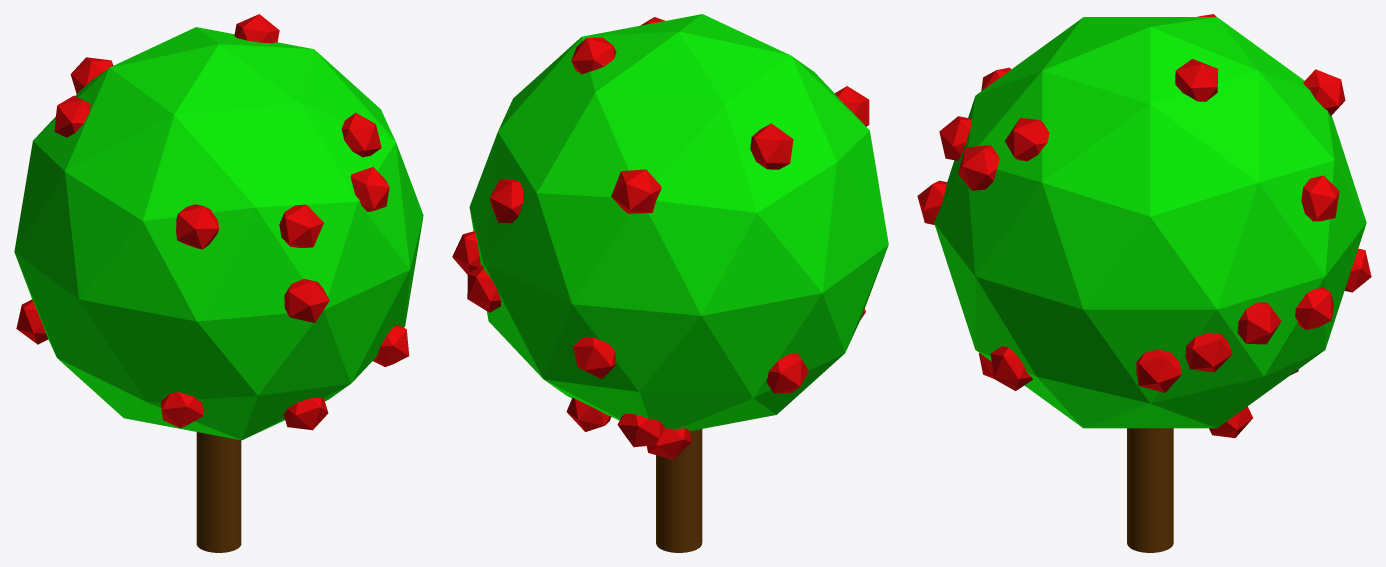
File: raspberry.glb
3 views of the same model, side by side, from view 1: azimuth 30°, elevation 25°; view 2: azimuth 150°, elevation 25°; view 3: azimuth 270°, elevation 25° (orthographic). The views are drawn at different scales.
Parts seen in each view (by area): view 1: Icosphere, Cylinder; view 2: Icosphere, Cylinder; view 3: Icosphere, Cylinder.
Part boxes in pixels (bbox=[...]): Icosphere: bbox=[14, 14, 423, 440]; Cylinder: bbox=[196, 432, 241, 552]; Icosphere: bbox=[452, 14, 888, 459]; Cylinder: bbox=[656, 429, 702, 552]; Icosphere: bbox=[917, 14, 1371, 437]; Cylinder: bbox=[1127, 428, 1173, 552].
Bounding box in the file's own units: 1.27 × 1.71 × 1.36.
